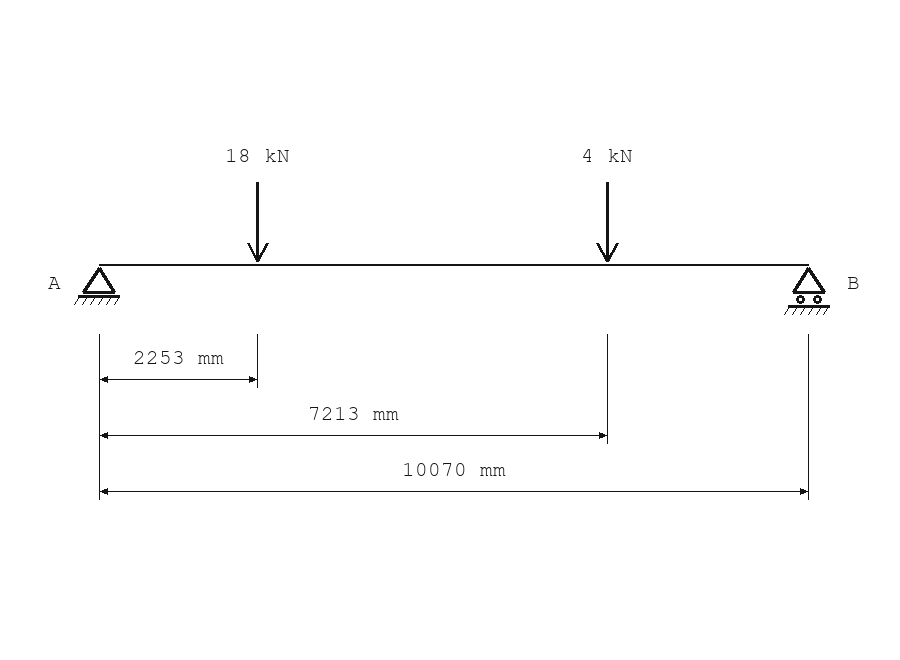pin_support: (74, 267, 120, 305)
point_load: (596, 182, 619, 262), (247, 182, 269, 262)
roller_support: (784, 267, 830, 315)
